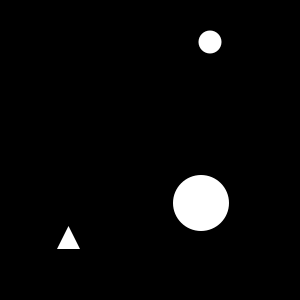rectangle: (173, 175, 229, 231), (198, 31, 222, 54)
triangle: (57, 226, 80, 249)
